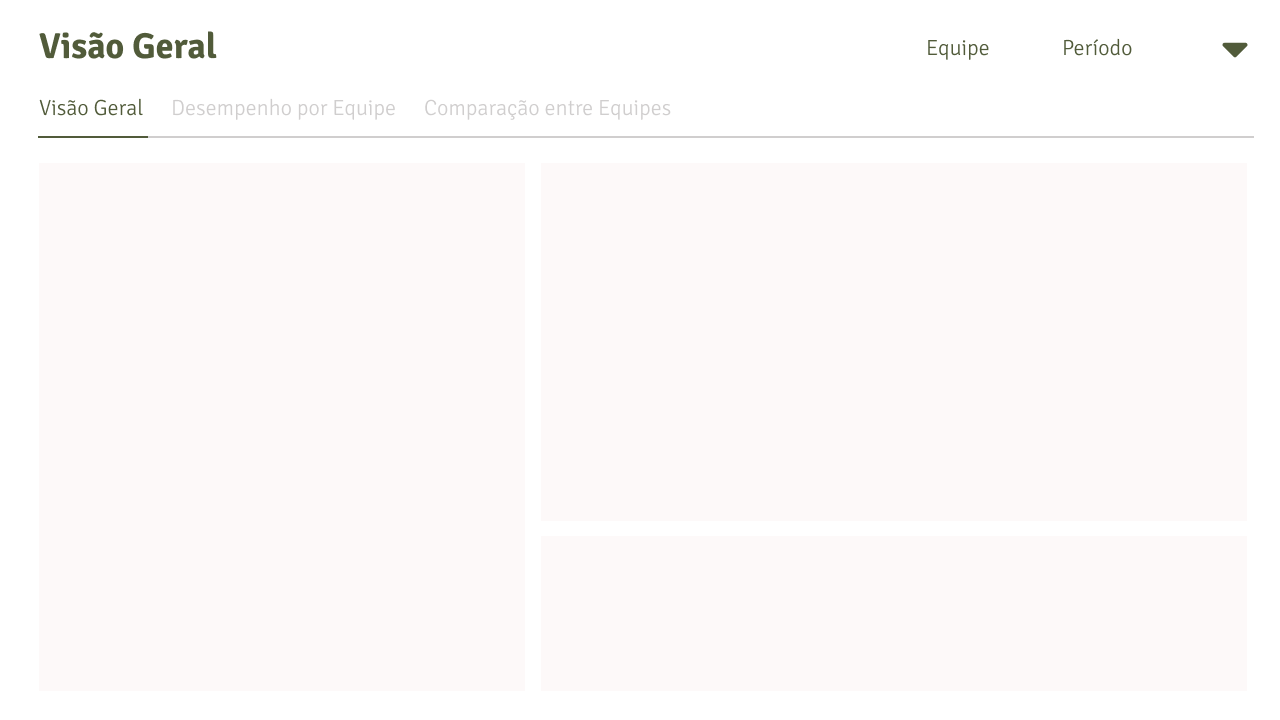

The page's visual inventory and layout, read from the dashboard file:
{"tool":"powerbi","page":{"name":"Visão Geral","canvas":[1280,720],"ordinal":0},"visuals":[{"type":"scatterChart","fields":{"X":["Sum(public campeonatobr_serieb.shots)"],"Y":["Sum(public campeonatobr_serieb.p_shotsontarget)"],"Category":["public campeonatobr_serieb.idgameteam"],"Size":["Sum(public campeonatobr_serieb.goals_shots)"],"Series":["public campeonatobr_serieb.venue"]},"box":[551.3,167.2,335.9,343],"z":0},{"type":"scatterChart","fields":{"Category":["public campeonatobr_serieb.idgameteam"],"X":["Sum(public campeonatobr_serieb.shotsontarget_against)"],"Y":["Sum(public campeonatobr_serieb.p_saves)"],"Size":["Sum(public campeonatobr_serieb.ga)"],"Series":["public campeonatobr_serieb.venue"]},"box":[900,167.2,335.9,343],"z":1000},{"type":"slicer","fields":{"Values":["public campeonatobr_serieb.tournament"]},"box":[756.9,25.5,242.4,45.4],"z":2000},{"type":"slicer","fields":{"Values":["public campeonatobr_serieb.date"]},"box":[989.3,25.5,221.1,45.4],"z":3000},{"type":"pivotTable","fields":{"Rows":["public campeonatobr_serieb.team"],"Values":["Count(public campeonatobr_serieb.round)","Sum(public campeonatobr_serieb.points)","Sum(public campeonatobr_serieb.gf)","Sum(public campeonatobr_serieb.ga)","Sum(public campeonatobr_serieb.gdiff)"]},"box":[48.2,167.2,464.9,513.1],"z":4000},{"type":"clusteredColumnChart","fields":{"Category":["public campeonatobr_serieb.team"],"Y":["Sum(public campeonatobr_serieb.round)"],"Series":["public campeonatobr_serieb.result"]},"box":[551.3,545.7,684.6,134.6],"z":5000},{"type":"actionButton","box":[34,85,117.6,39.7],"z":6000},{"type":"actionButton","box":[163,85,242.4,39.7],"z":7000},{"type":"actionButton","box":[415.3,85,265,39.7],"z":8000}]}

Visuals, with their boxes in screenshot pixels (x1, y1, x2, y2), scaled from the page's 1280x720 canvas onto the 1280x720 screenshot:
scatterChart - Sum(public campeonatobr_serieb.shots) x Sum(public campeonatobr_serieb.p_shotsontarget): {"x1": 551, "y1": 167, "x2": 887, "y2": 510}
scatterChart - public campeonatobr_serieb.idgameteam x Sum(public campeonatobr_serieb.shotsontarget_against): {"x1": 900, "y1": 167, "x2": 1236, "y2": 510}
slicer - public campeonatobr_serieb.tournament: {"x1": 757, "y1": 26, "x2": 999, "y2": 71}
slicer - public campeonatobr_serieb.date: {"x1": 989, "y1": 26, "x2": 1210, "y2": 71}
pivotTable - public campeonatobr_serieb.team x Count(public campeonatobr_serieb.round): {"x1": 48, "y1": 167, "x2": 513, "y2": 680}
clusteredColumnChart - public campeonatobr_serieb.team x Sum(public campeonatobr_serieb.round): {"x1": 551, "y1": 546, "x2": 1236, "y2": 680}
actionButton: {"x1": 34, "y1": 85, "x2": 152, "y2": 125}
actionButton: {"x1": 163, "y1": 85, "x2": 405, "y2": 125}
actionButton: {"x1": 415, "y1": 85, "x2": 680, "y2": 125}
